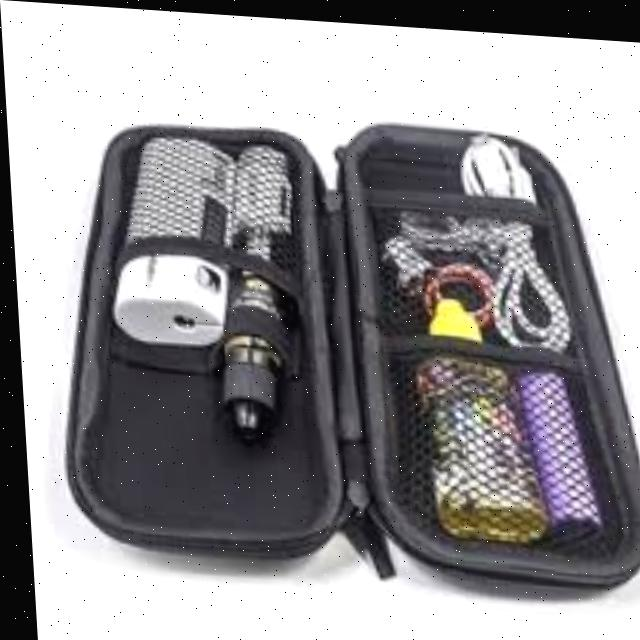vape: (202, 133, 311, 434)
